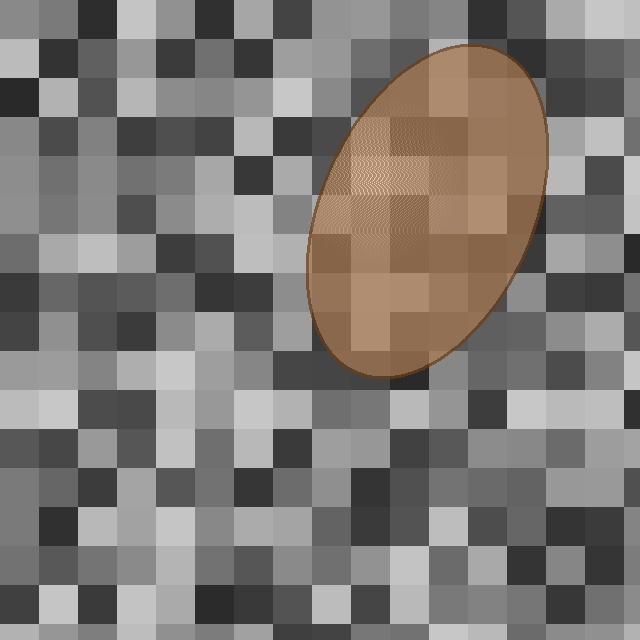lens: (307, 45, 547, 377)
